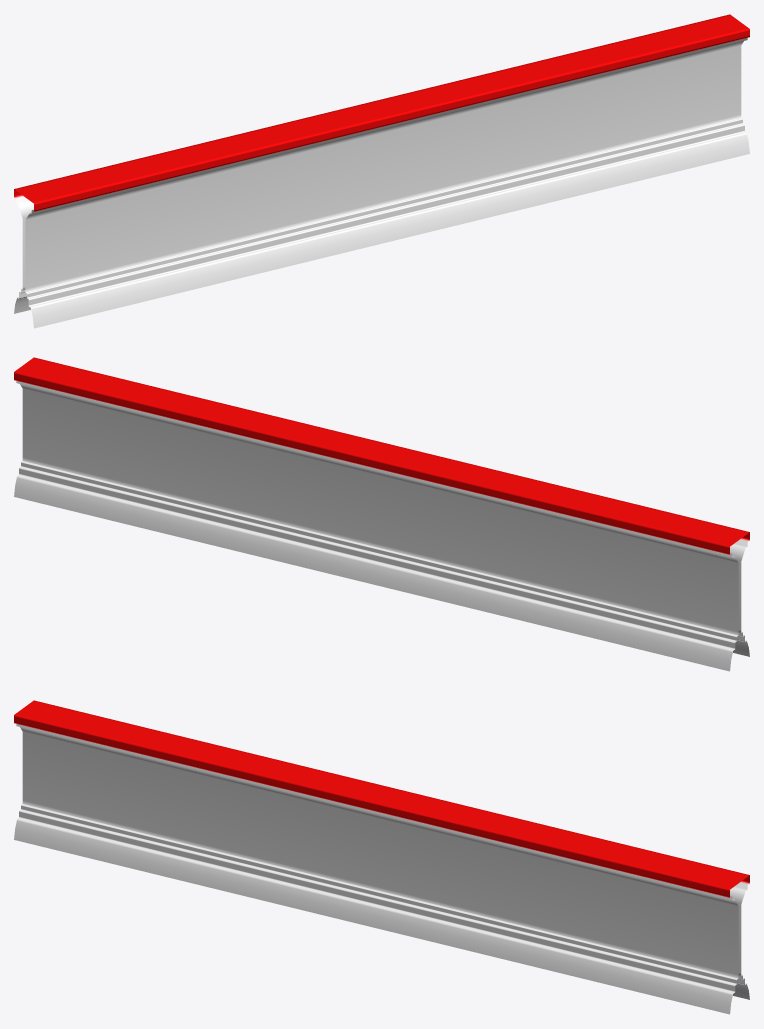
Rendered from SM_RailB6m.fbx.
3 renders of one model, top to bottom at view 1: azimuth 30°, elevation 25°; view 2: azimuth 150°, elevation 25°; view 3: azimuth 330°, elevation 25°, orthographic.
Parts seen in each view (by area): view 1: SM_RailB6m; view 2: SM_RailB6m; view 3: SM_RailB6m.
Boxes of the visible parts, bbox=[...] form: SM_RailB6m: bbox=[14, 14, 749, 328]; SM_RailB6m: bbox=[14, 357, 749, 671]; SM_RailB6m: bbox=[14, 700, 749, 1014].
Bounding box in the file's own units: 600 × 100 × 28.95.
